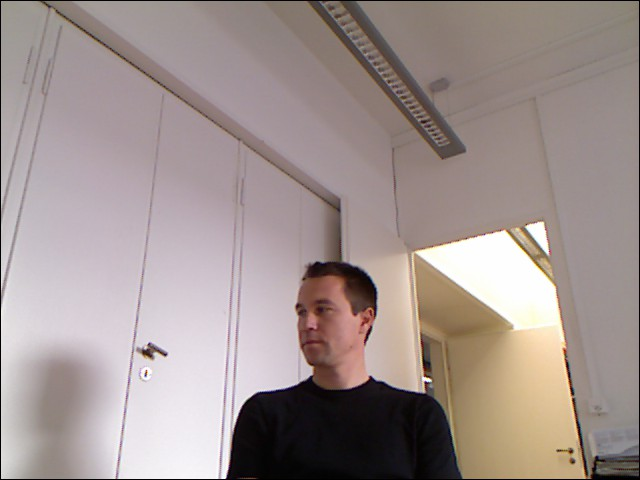deflection: (237, 262, 442, 451)
